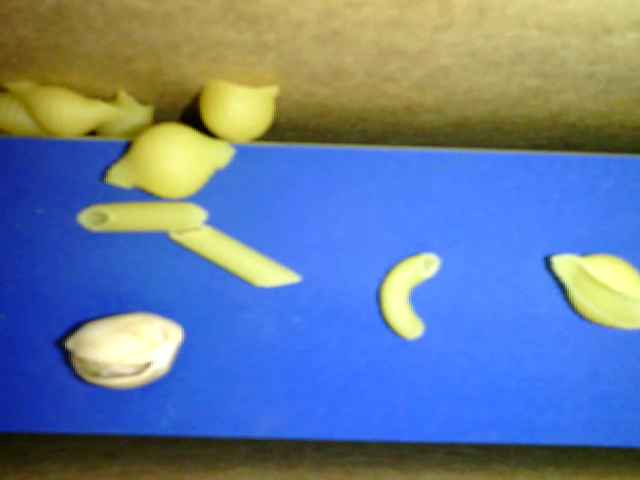elbow: (379, 252, 439, 340)
penne: (167, 226, 300, 288), (73, 200, 211, 232)
shell: (102, 124, 232, 198), (548, 251, 639, 335), (1, 78, 124, 139), (198, 73, 280, 144), (102, 90, 155, 138), (1, 94, 51, 139)
